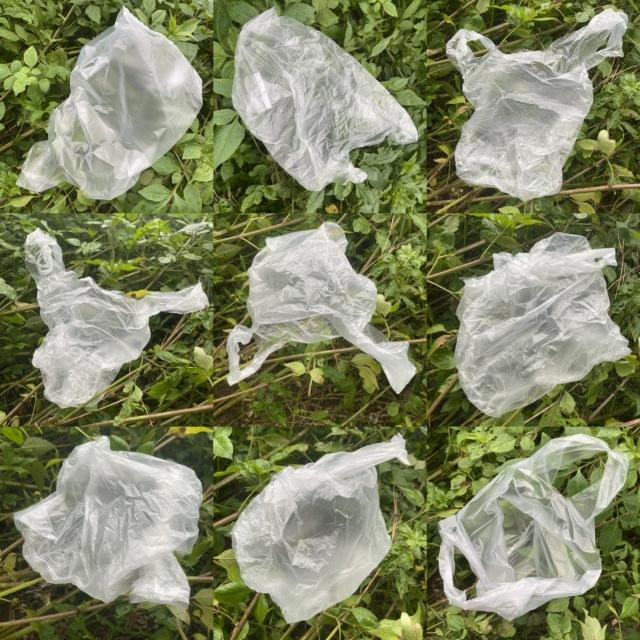Single-layer Plastic: (16, 8, 202, 200), (439, 434, 629, 620), (446, 9, 628, 201), (231, 9, 418, 191), (231, 435, 408, 624), (25, 229, 209, 408), (226, 221, 416, 392), (454, 232, 630, 416), (14, 436, 202, 607)
